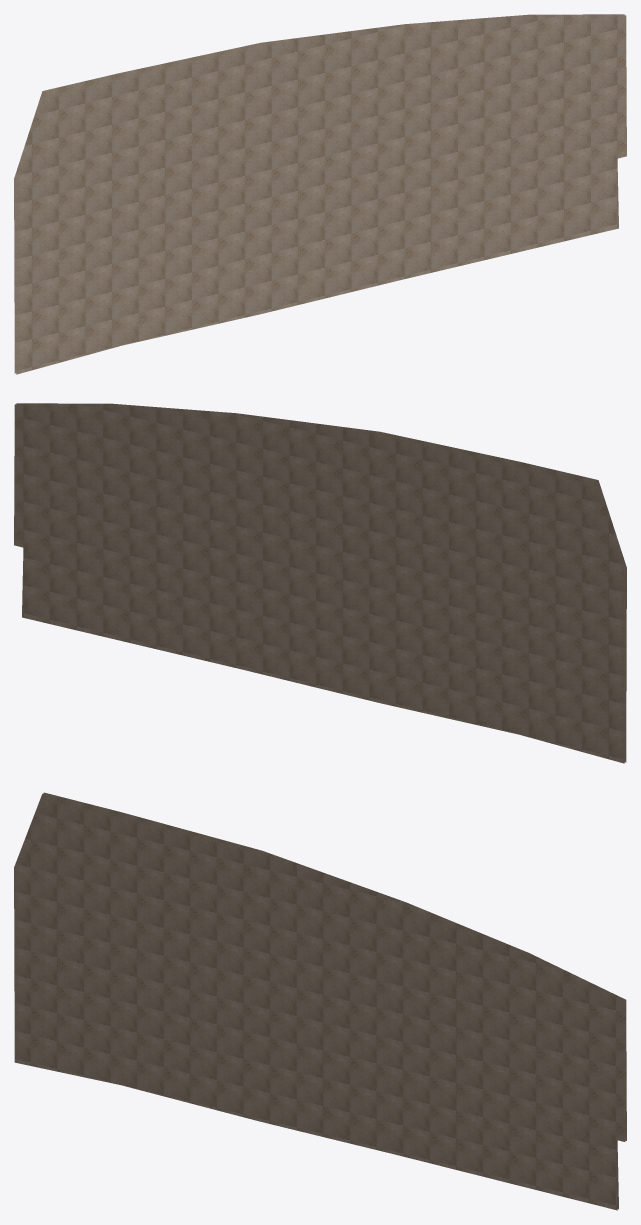
The model's file is floor_24.obj.
3 views of the same model, one above another, from view 1: azimuth 30°, elevation 25°; view 2: azimuth 150°, elevation 25°; view 3: azimuth 330°, elevation 25° (orthographic).
Visible parts, largest first — view 1: floor_24; view 2: floor_24; view 3: floor_24.
Part boxes in pixels (x1,y1,x2,y2): floor_24: [14, 14, 626, 374]; floor_24: [14, 403, 626, 763]; floor_24: [14, 792, 626, 1210].
Bounding box in the file's own units: 22.99 × 9.94 × 0.1.
1 material, 1 textured.
